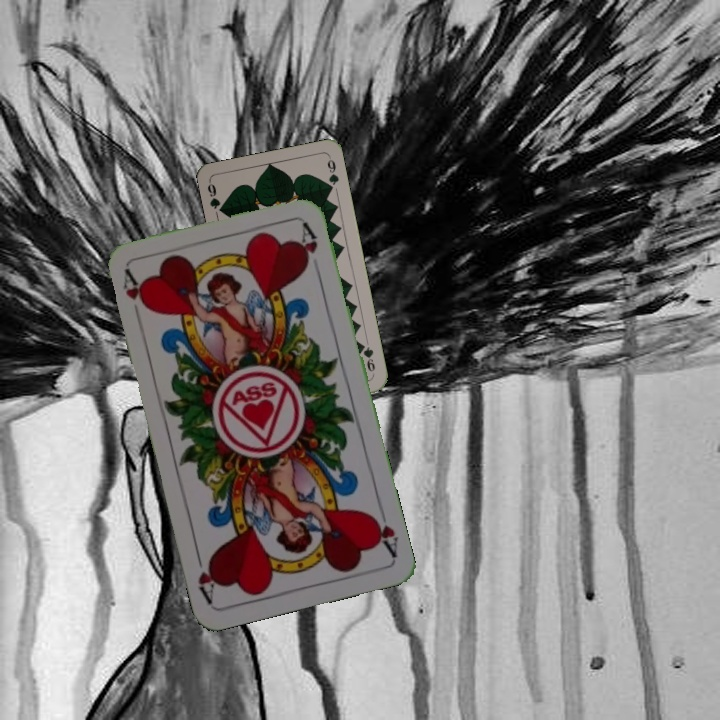G9: (203, 178, 227, 217), (357, 340, 378, 379)
HA: (366, 501, 401, 559), (119, 266, 150, 311)
